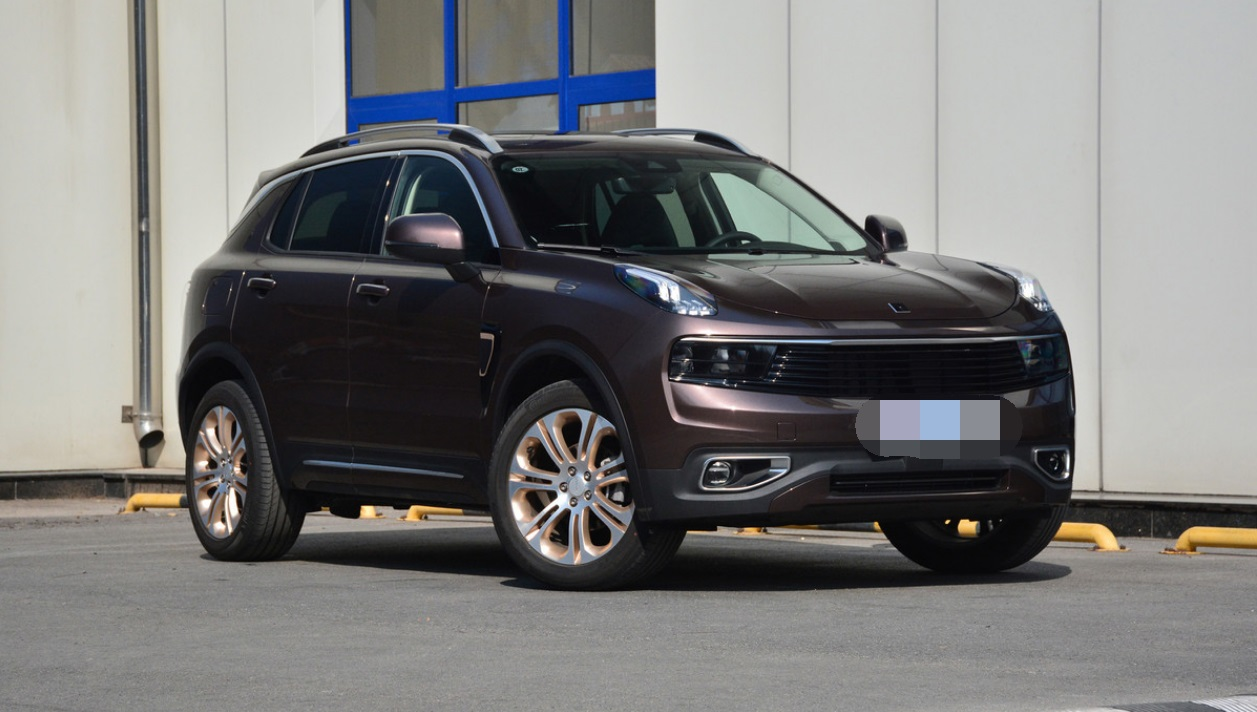SUV: (169, 112, 1081, 589)
